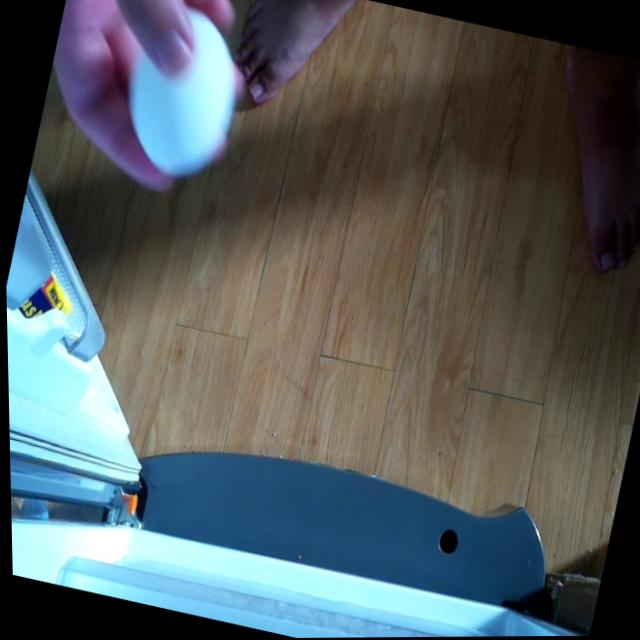egg: (98, 0, 261, 189)
